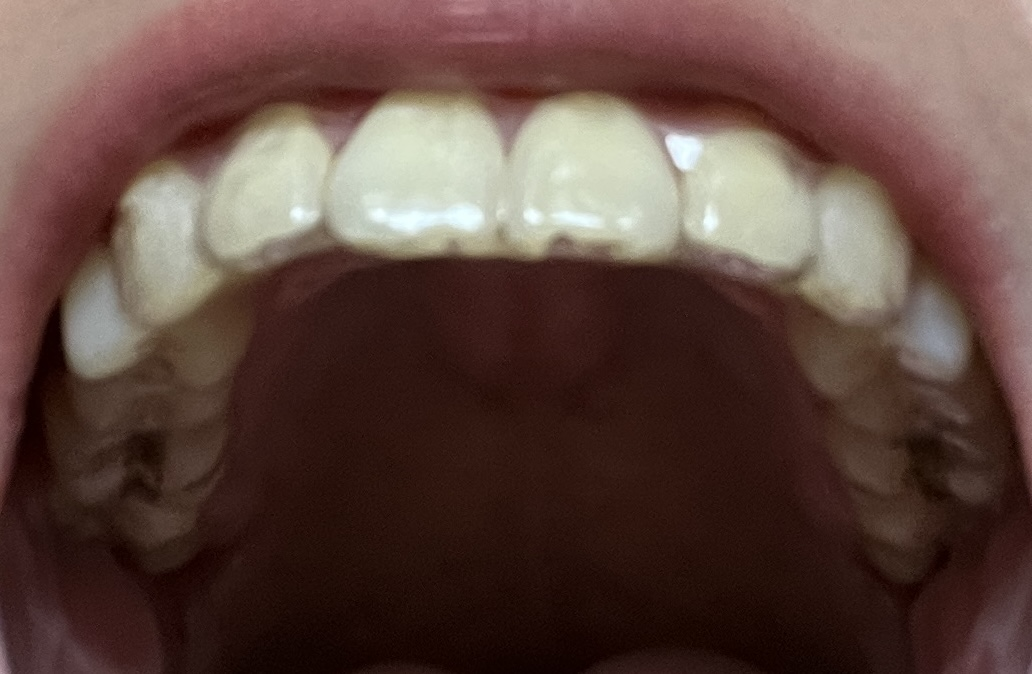teeth: (328, 89, 515, 253), (516, 96, 666, 259), (71, 254, 252, 364), (804, 285, 970, 403), (692, 118, 807, 285), (116, 162, 225, 315), (219, 96, 321, 257), (829, 395, 986, 488), (863, 495, 1013, 588), (69, 413, 218, 502), (819, 169, 894, 330), (61, 368, 246, 416), (56, 517, 195, 574)
